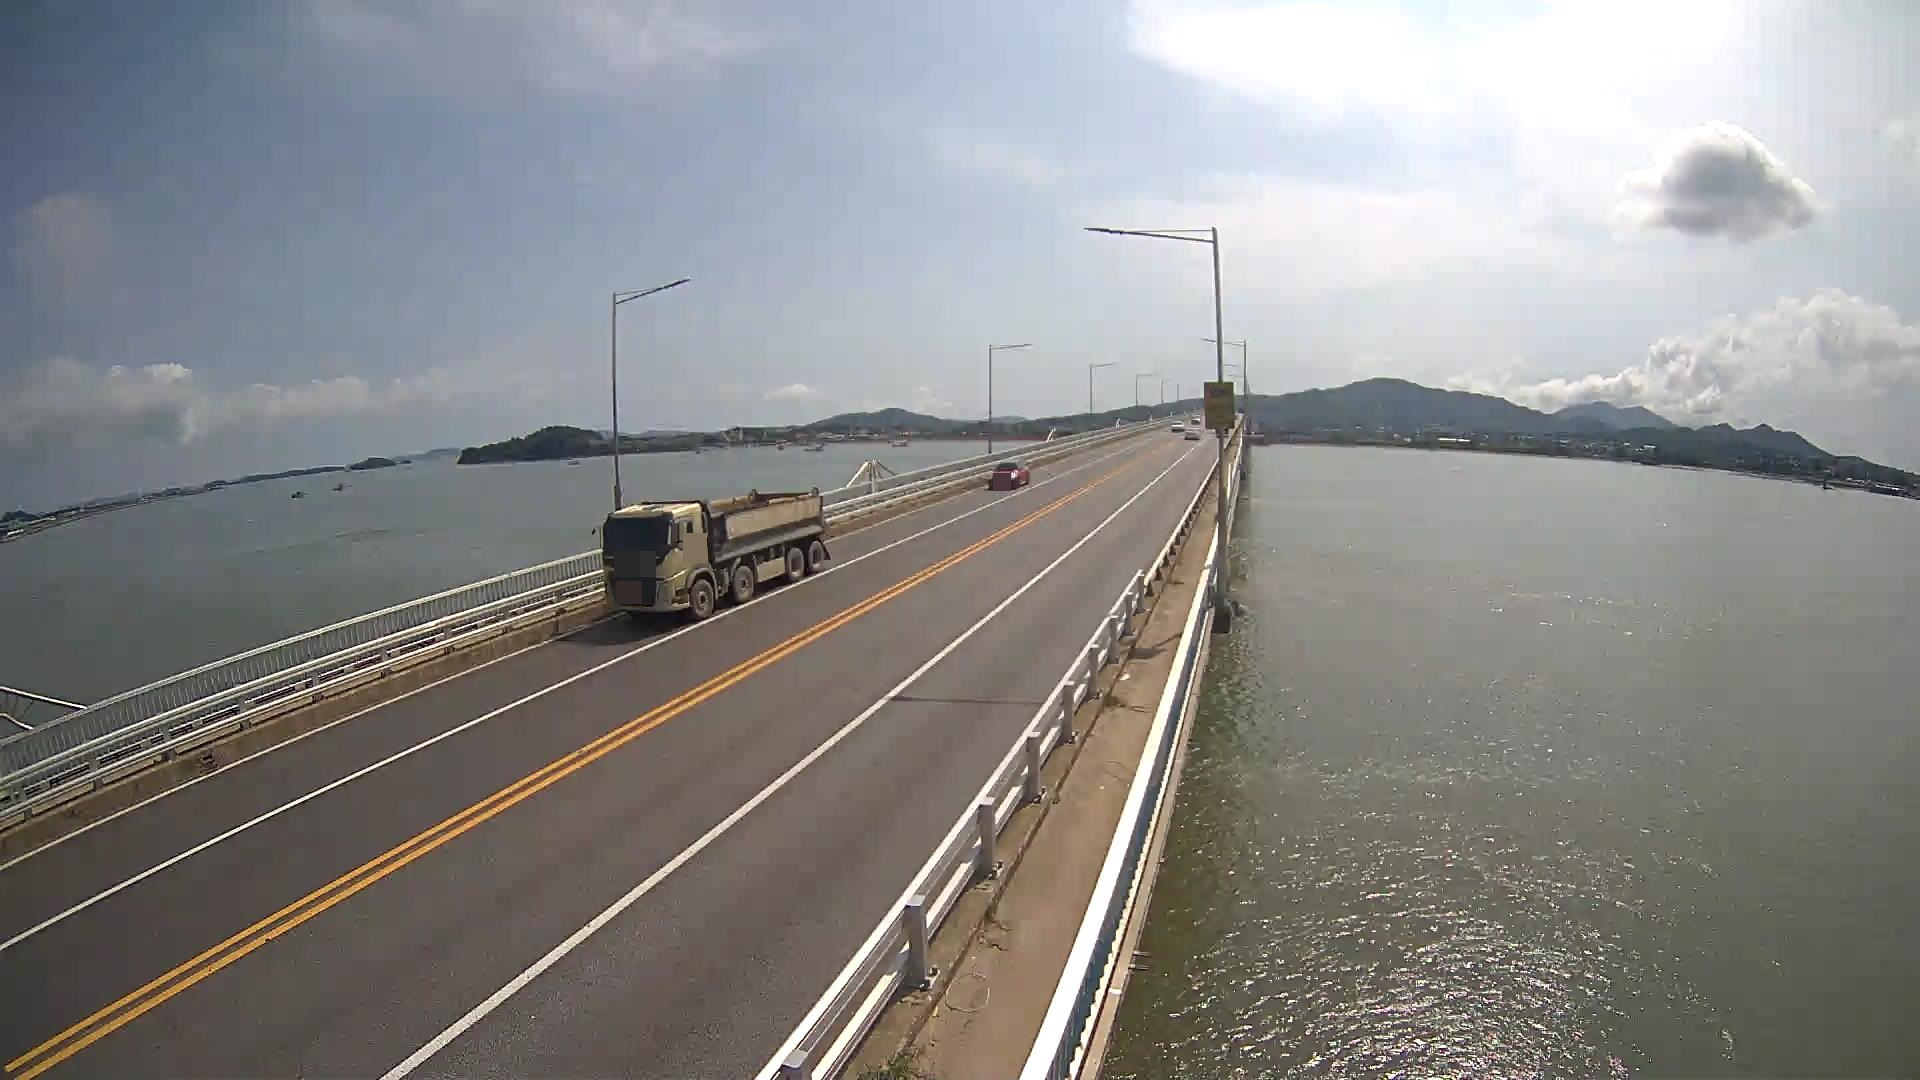정상차량: (591, 487, 831, 618)
